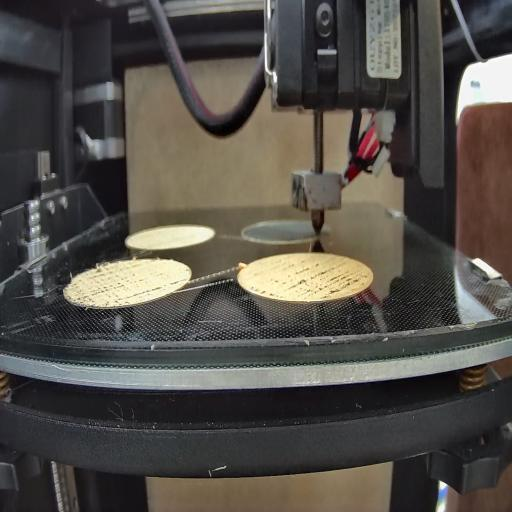under_extrusion: (250, 263, 372, 295), (71, 261, 126, 310), (129, 274, 188, 296)
